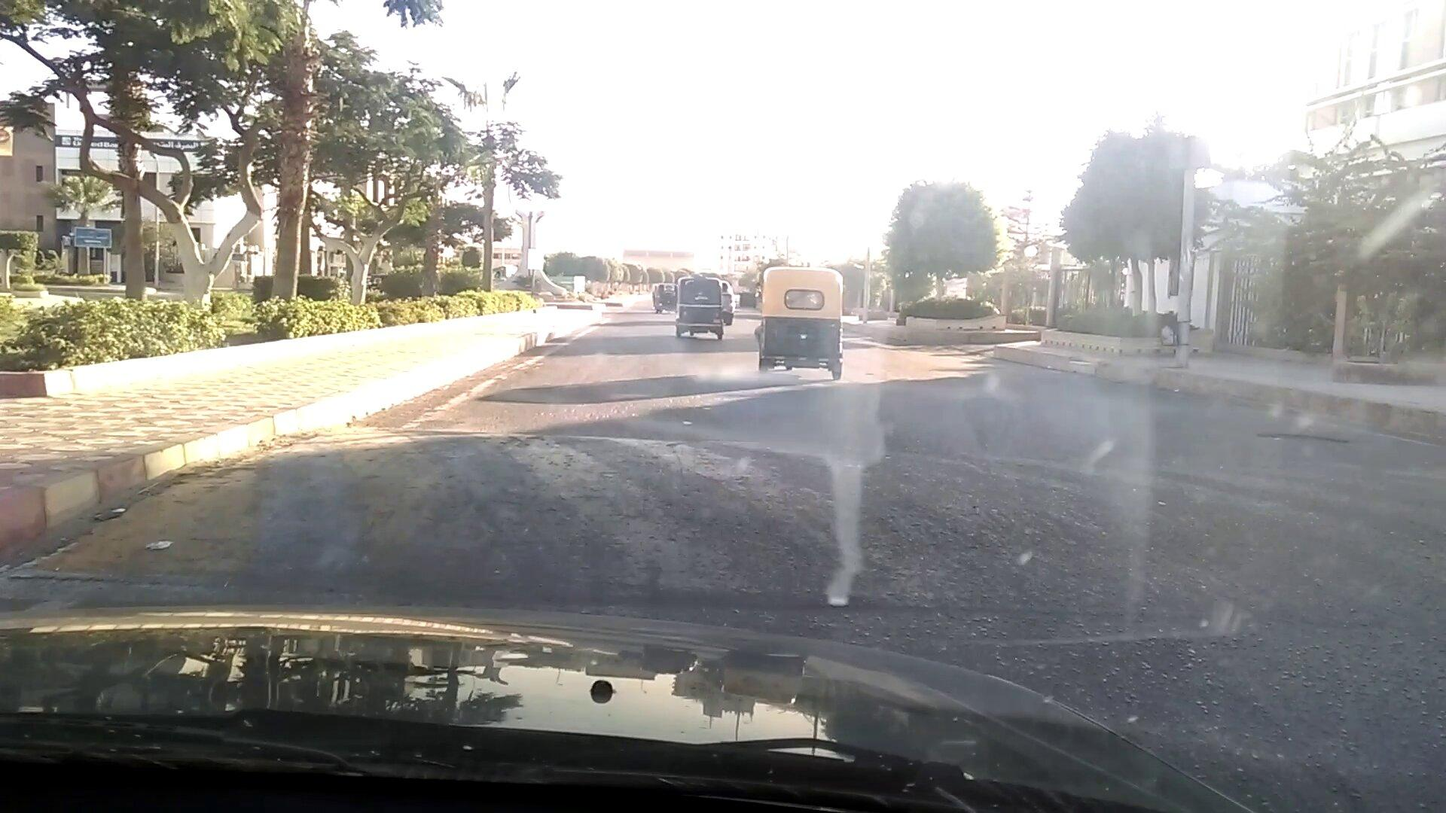Bump: (230, 412, 1418, 619)
